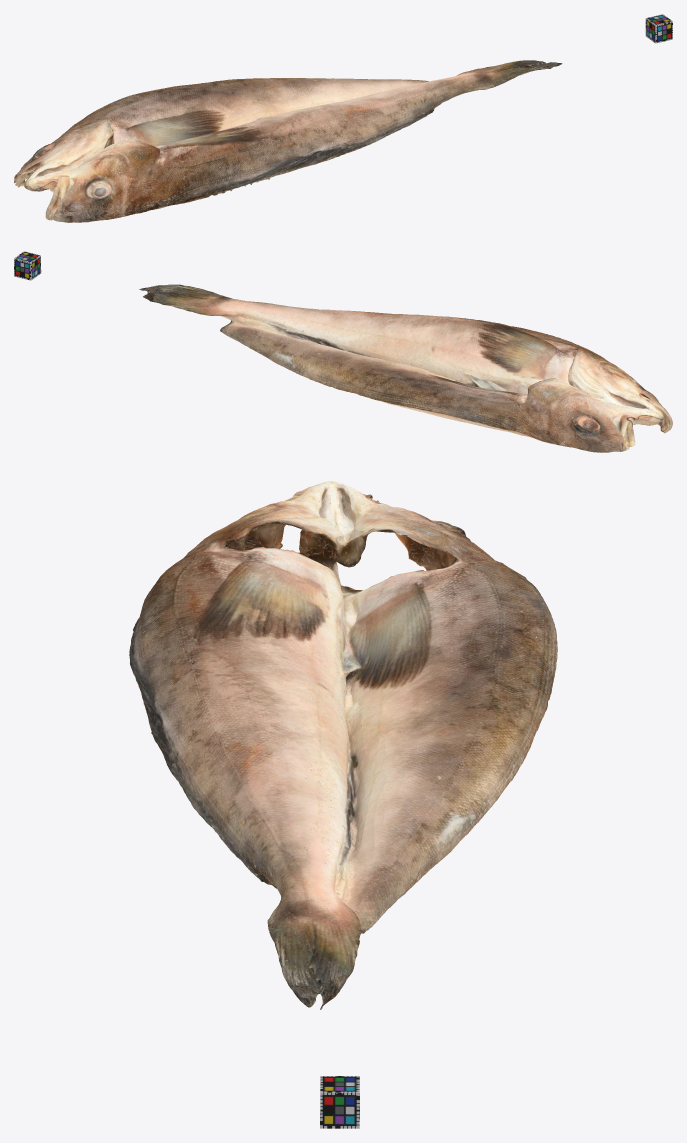
The model's file is scan_atkamack.glb.
3 renders of one model, top to bottom at view 1: azimuth 30°, elevation 25°; view 2: azimuth 150°, elevation 25°; view 3: azimuth 270°, elevation 25°, orthographic. The views are drawn at different scales.
Parts seen in each view (by area): view 1: Object_6, Object_4; view 2: Object_6, Object_4; view 3: Object_6, Object_4.
Boxes of the visible parts, x1,y1,x2,y2 form: Object_6: (14, 60, 562, 222); Object_4: (645, 14, 672, 43); Object_6: (139, 284, 672, 452); Object_4: (14, 251, 41, 280); Object_6: (129, 481, 557, 1009); Object_4: (320, 1076, 359, 1128).
Size of the model in its own units: 0.3622 by 0.0309 by 0.1048.
Materials: 2 (2 with a texture image).
